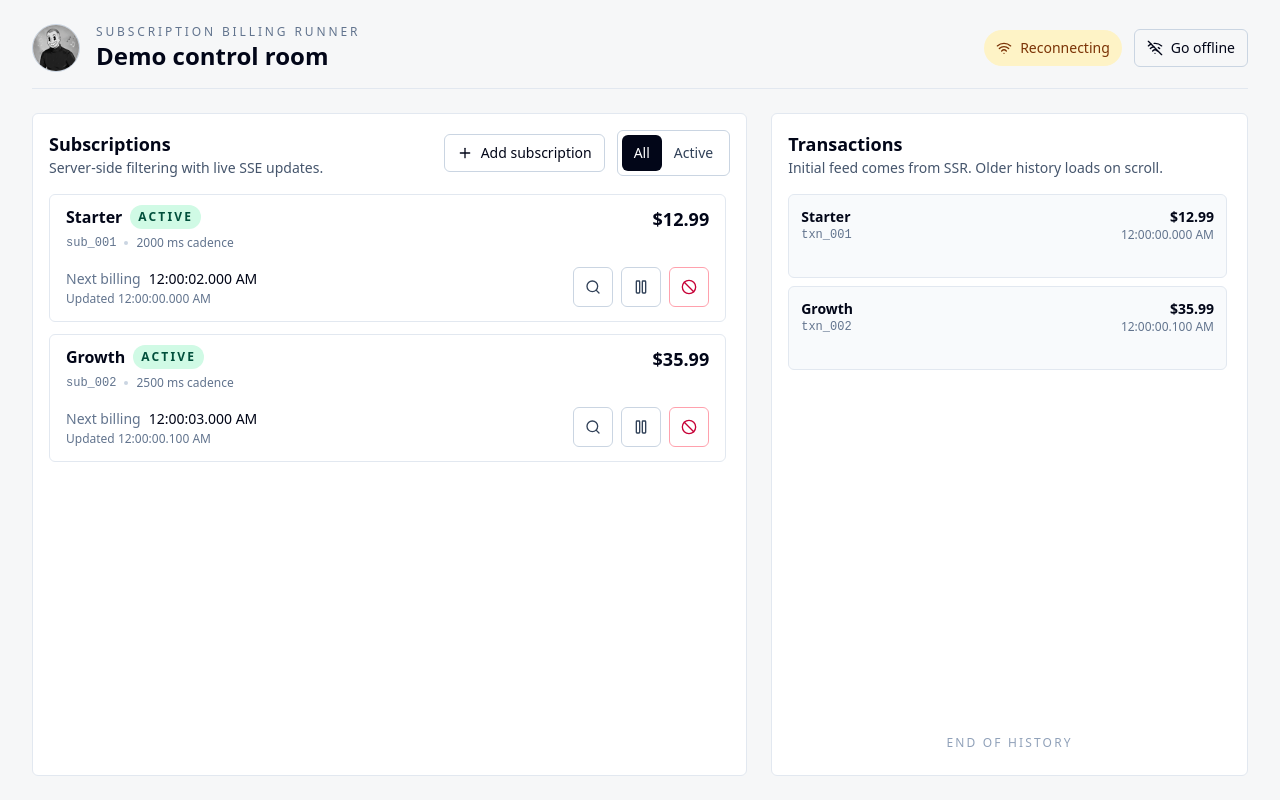
Test: Dashboard › rejects non-integer create inputs on the client before submit
Click the button "Add subscription". click: click(524, 153)
box: [444, 134, 605, 172]
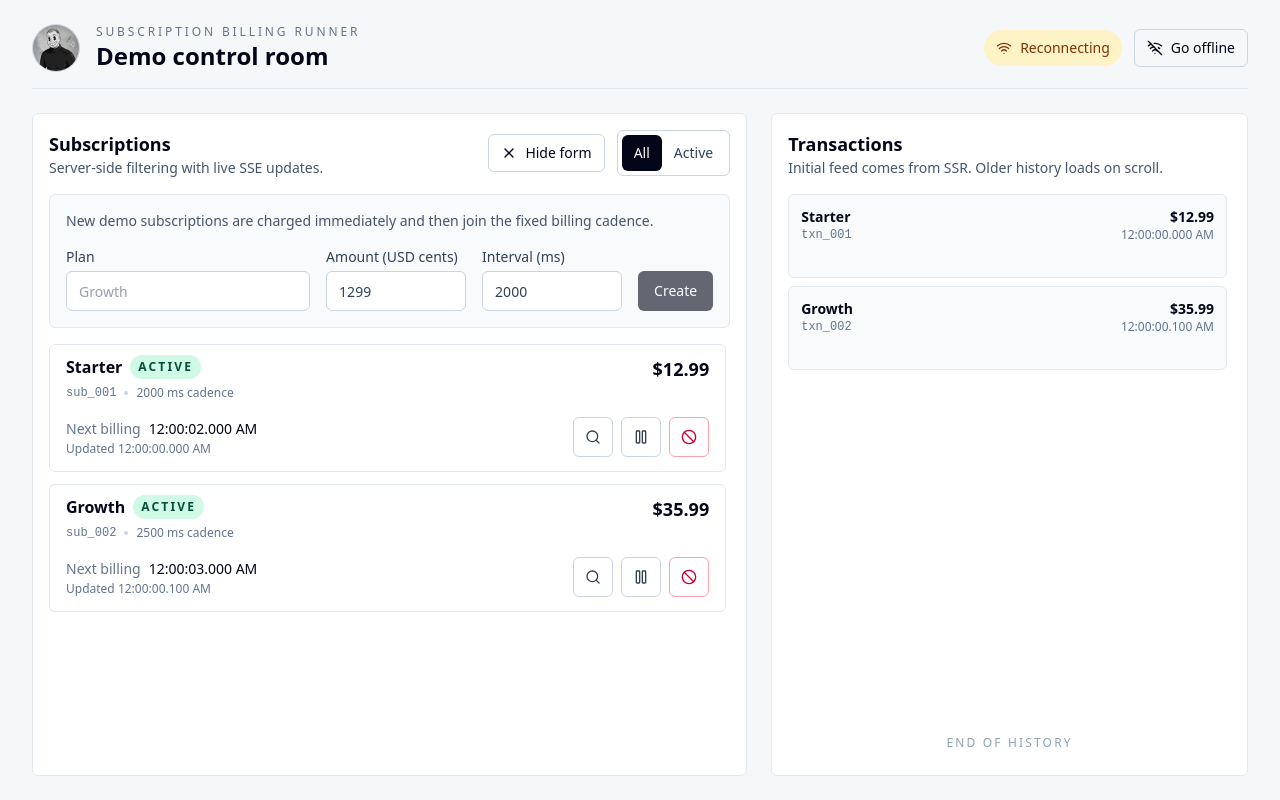
Type "Decimal plan" into the field labelled "Plan". click: (188, 291)
box: [66, 271, 310, 311]
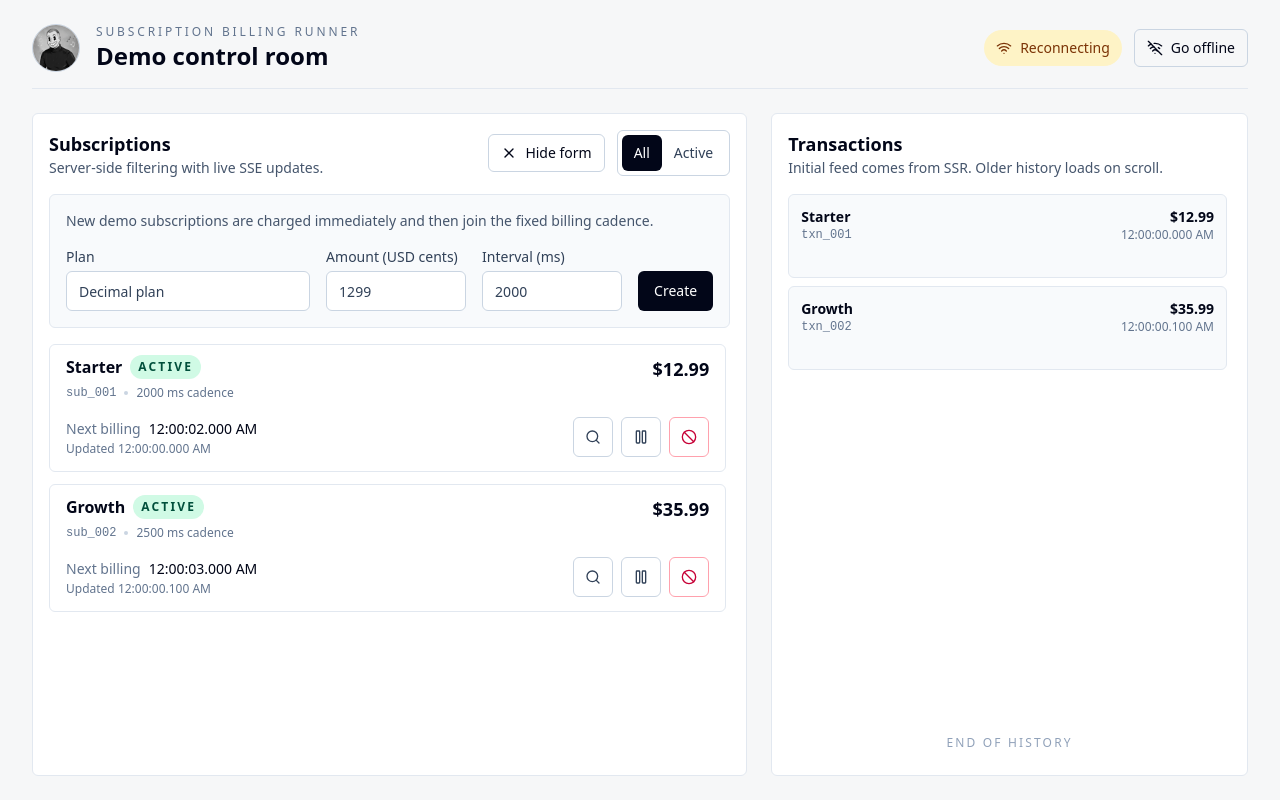
Replace the text in the number field labelled "Amount (USD cents)" with "12.5". click: (396, 291)
box: [326, 271, 466, 311]
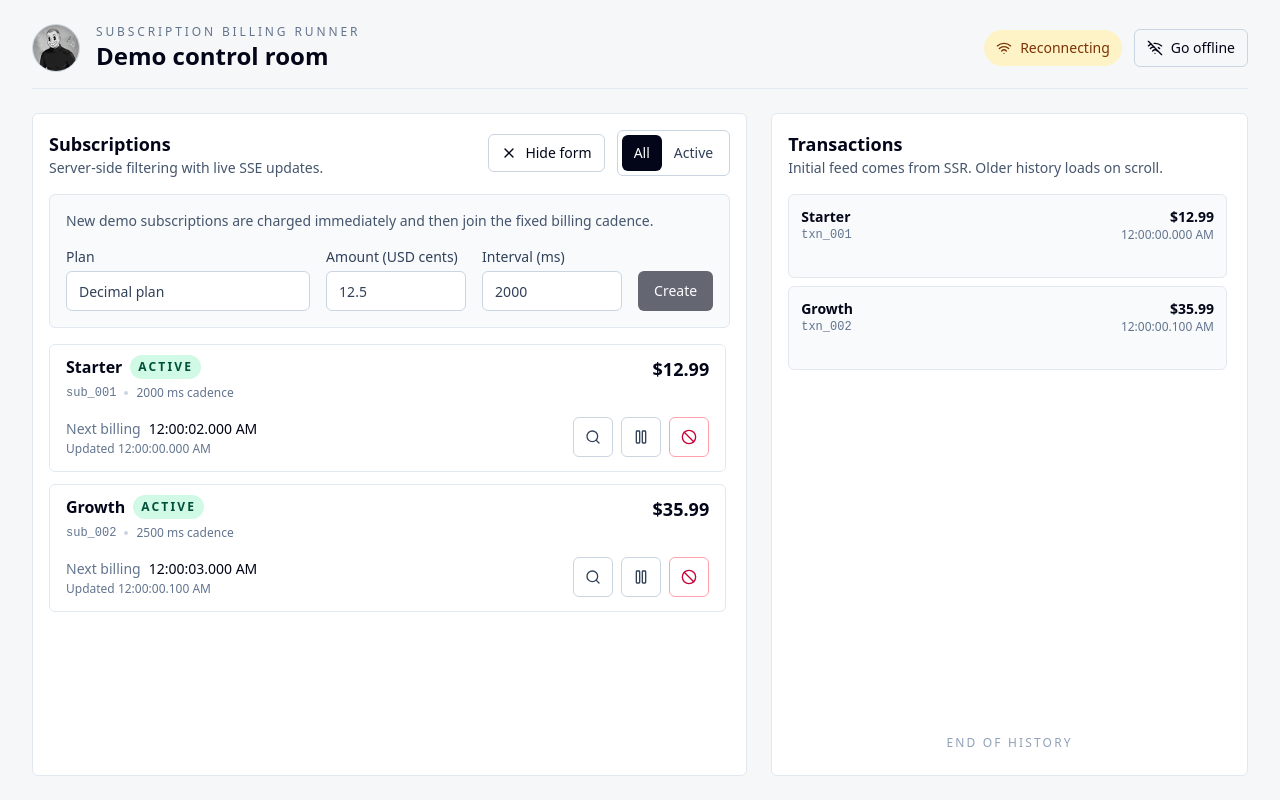
Now the button "Create" is disabled, box [638, 271, 713, 311]
Replace the text in the number field labelled "Amount (USD cents)" with "1250". click: (396, 291)
box: [326, 271, 466, 311]
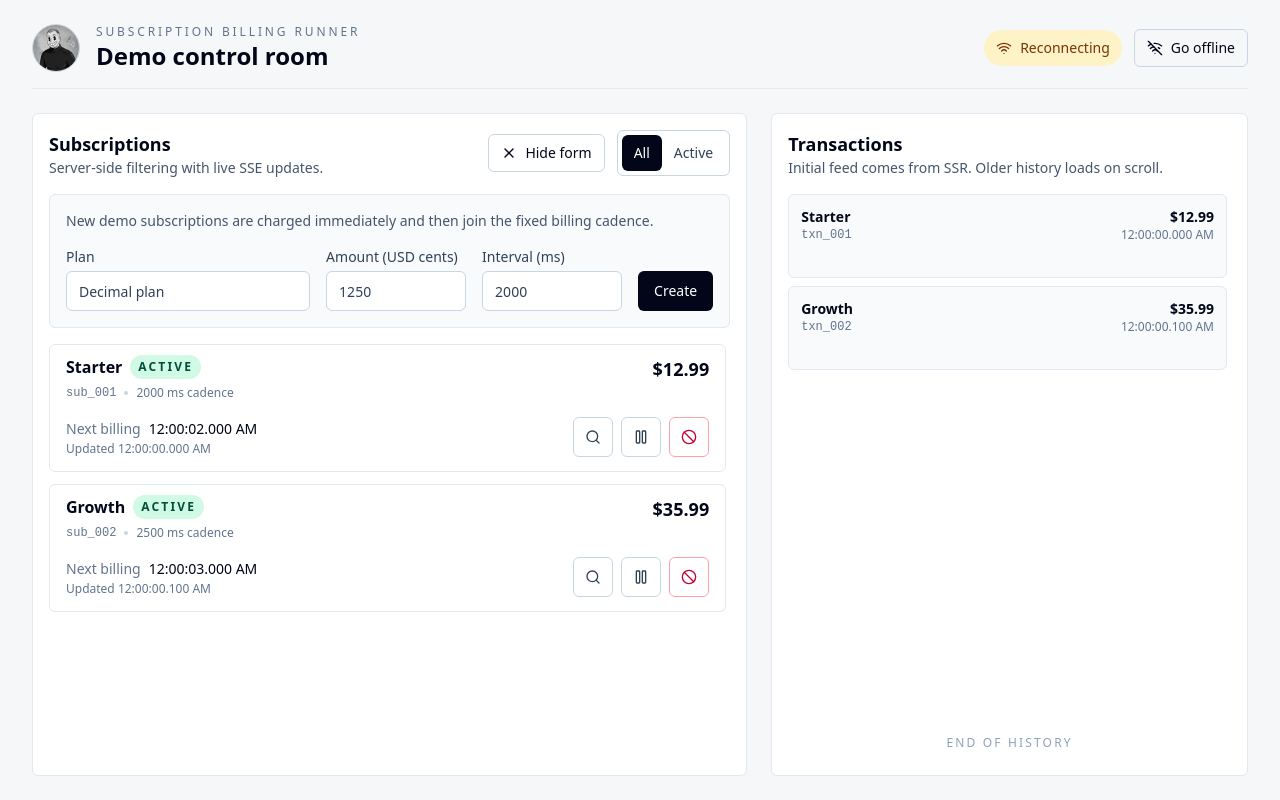
Replace the text in the number field labelled "Interval (ms)" with "750.5". click: (552, 291)
box: [482, 271, 622, 311]
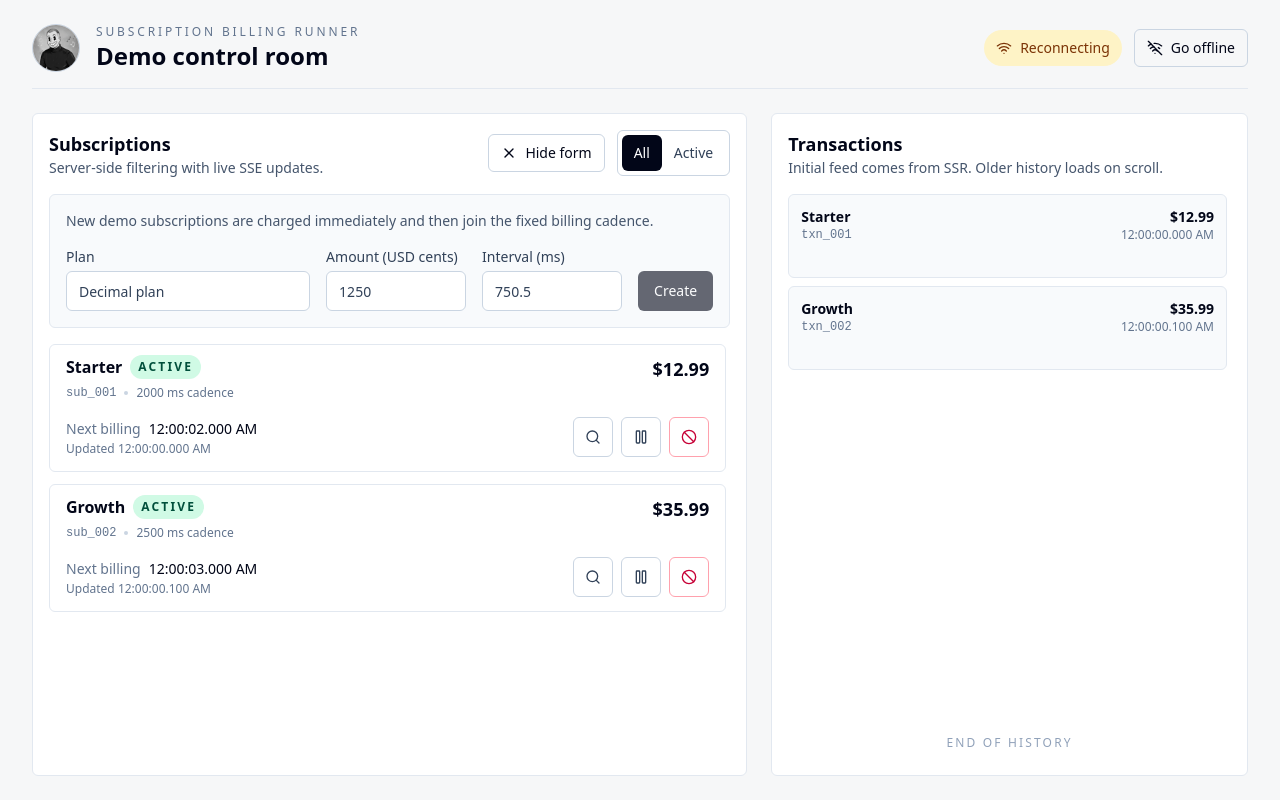
Now the button "Create" is disabled, box [638, 271, 713, 311]
